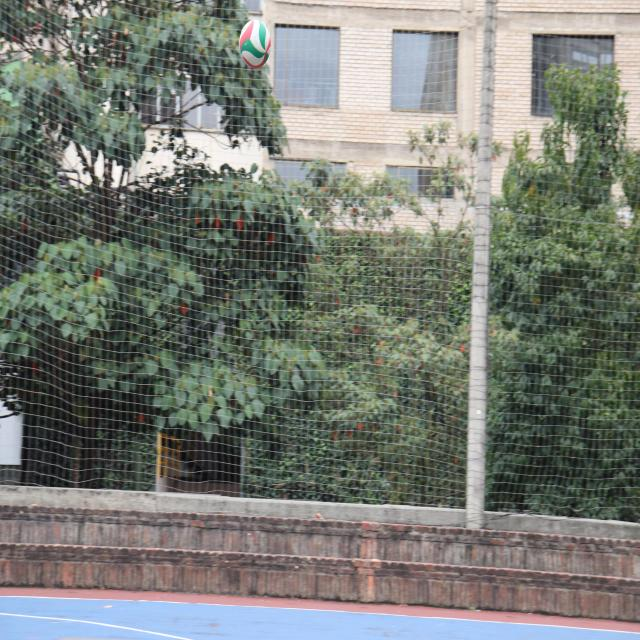volleyball: (240, 17, 272, 67)
